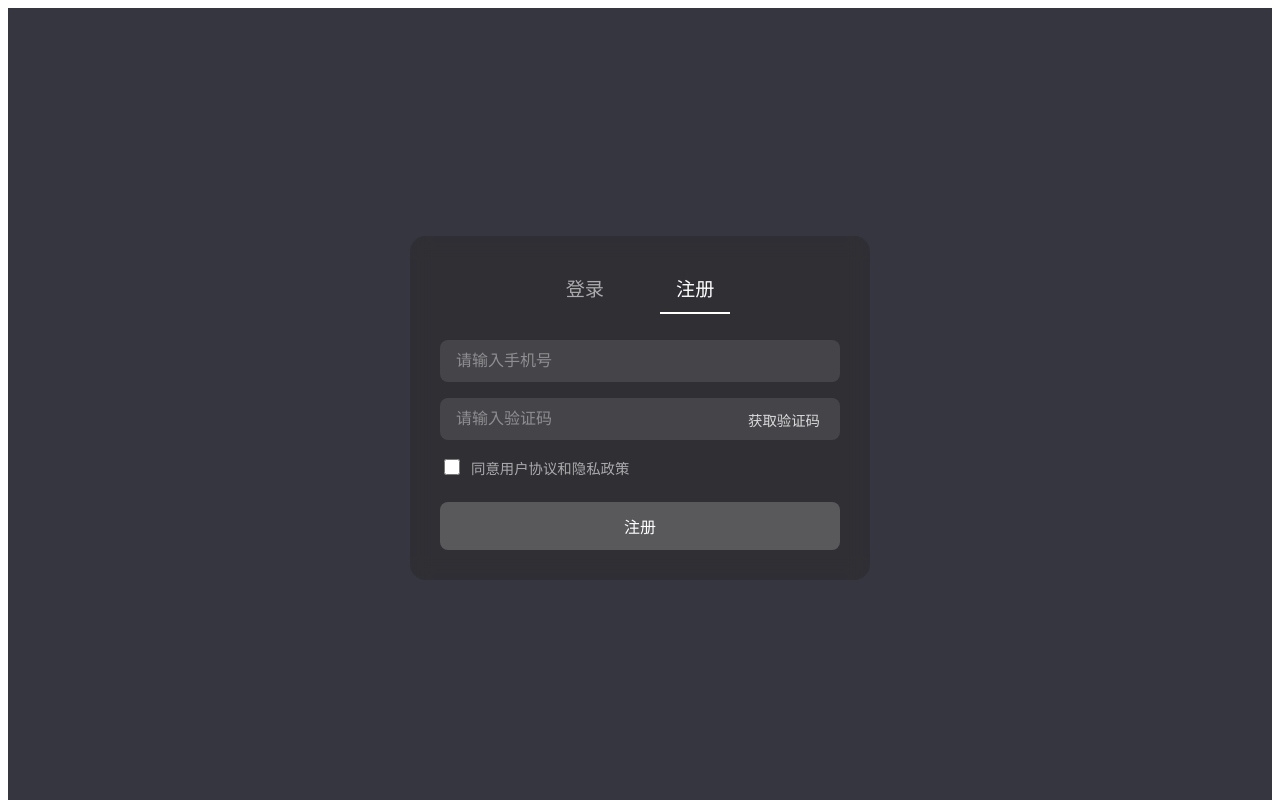
Test: 注册页面 › 注册提交 › 验证码错误显示错误信息
The image size is (1280, 800).
Type "13800138000" into the field with test id "phone-input".
click(640, 361); type("13800138000")  # box [440,340,840,382]
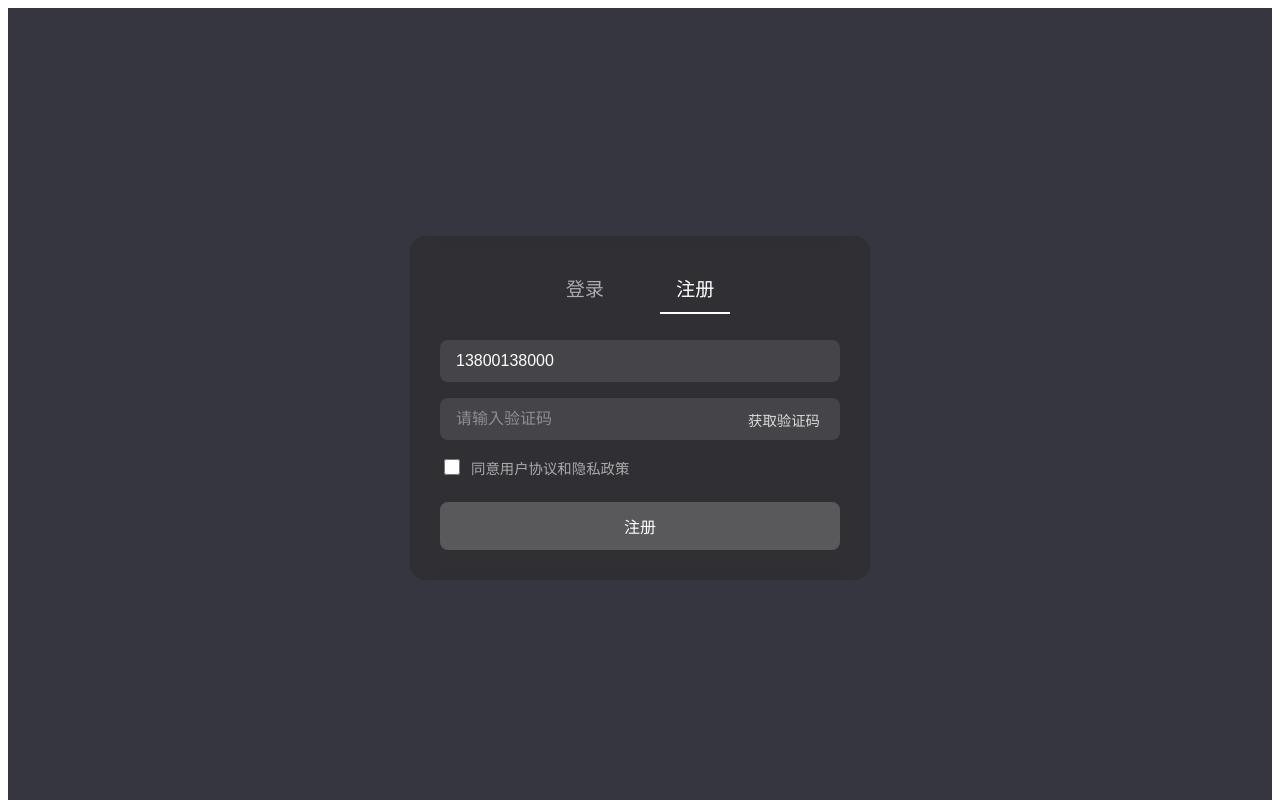
Type "000000" into the field with test id "code-input".
click(640, 419); type("000000")  # box [440,398,840,440]
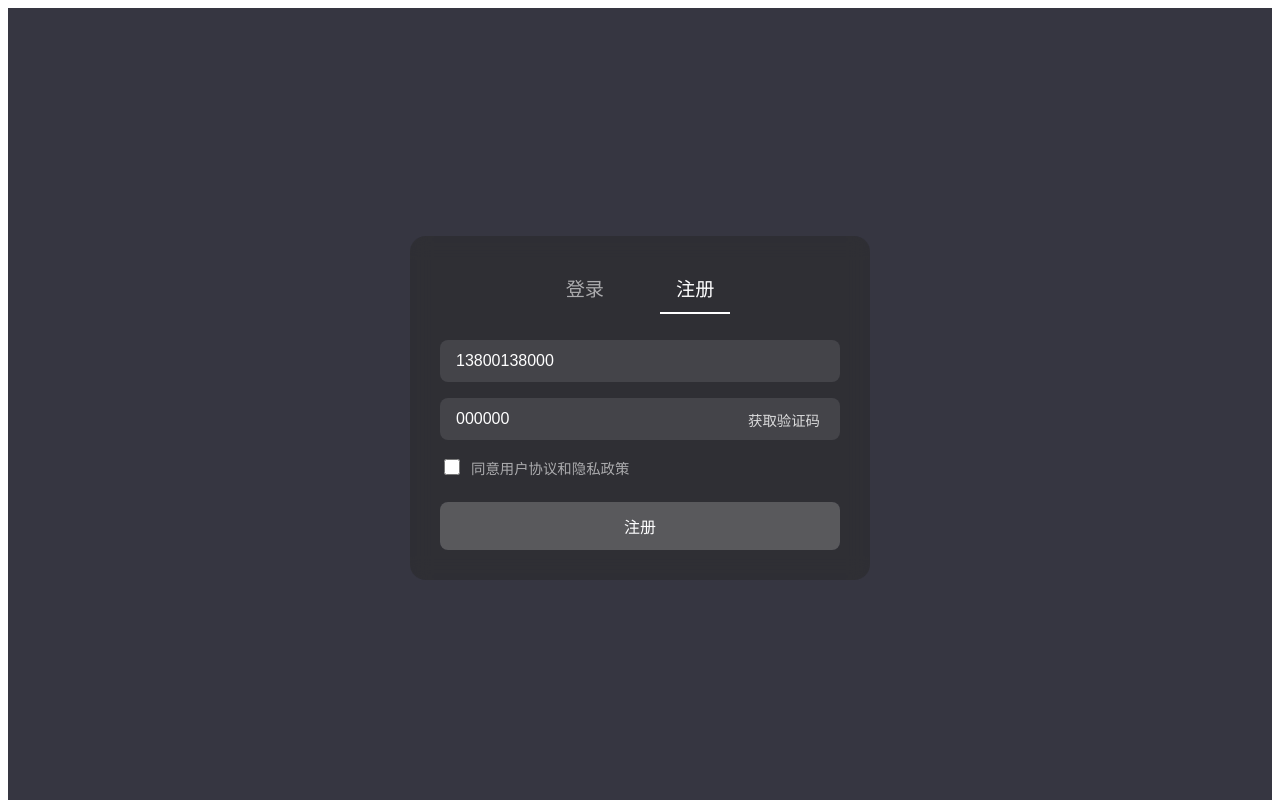
Click the checkbox with test id "agree-checkbox".
click(452, 467)  # box [444,459,460,475]
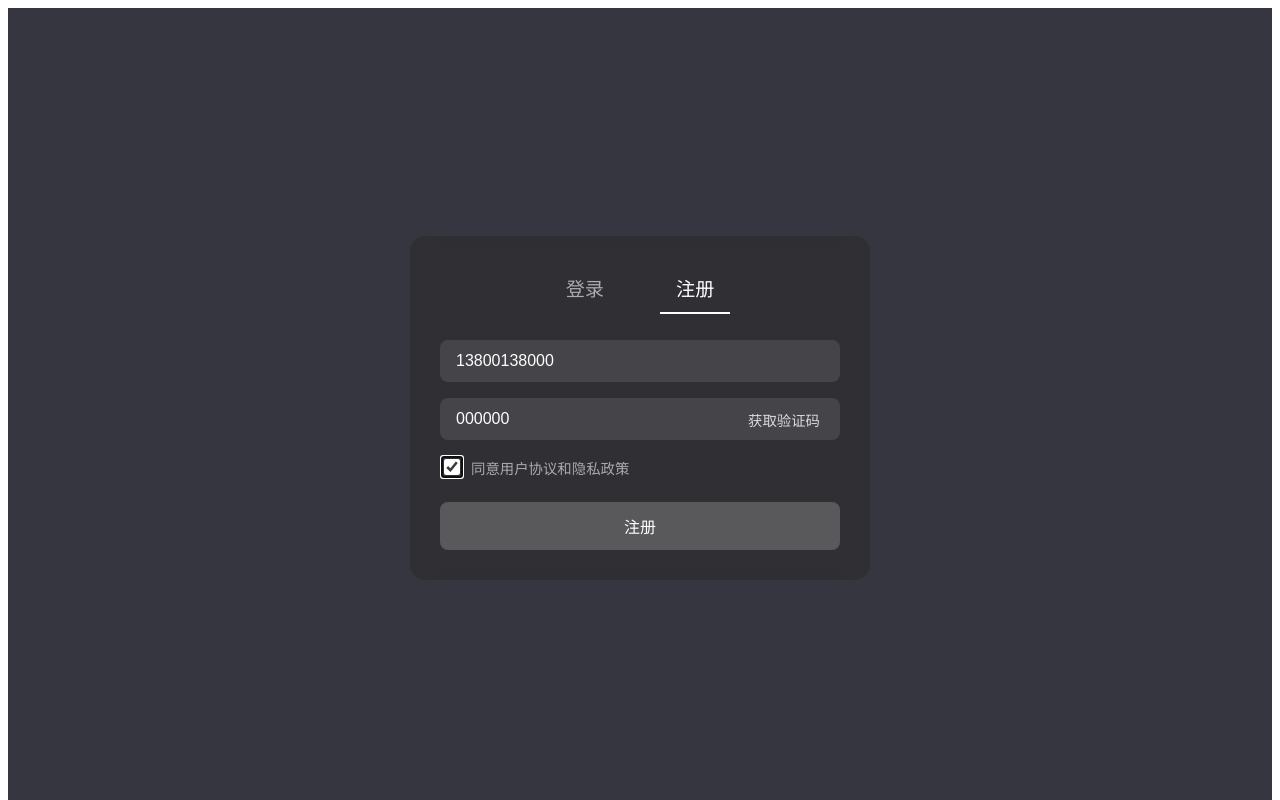
Click the button with test id "submit-button".
click(640, 526)  # box [440,502,840,550]
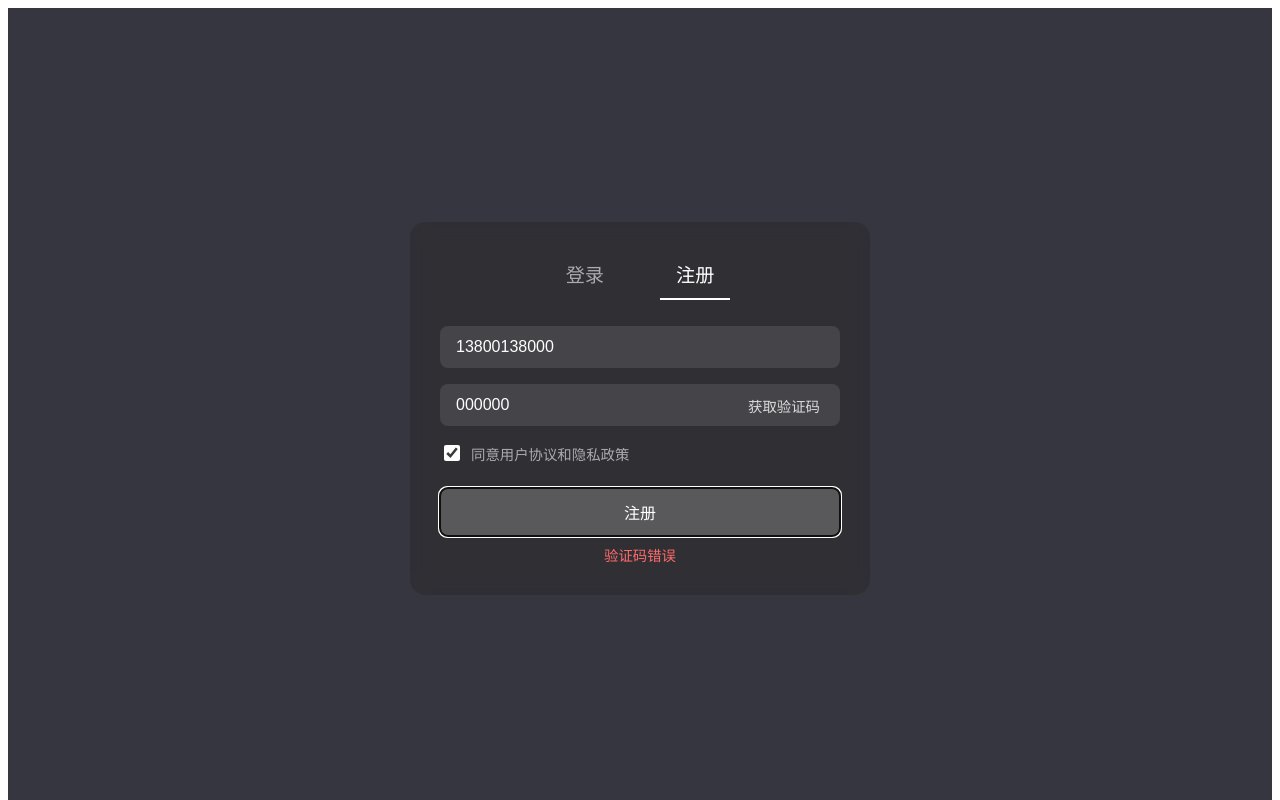
Expected: the text with test id "message" reads "验证码错误", [604,548,676,564]
